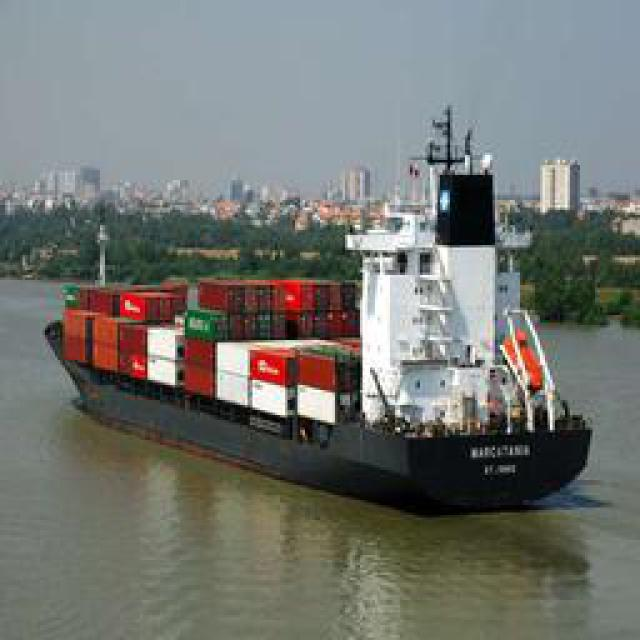Ship: (57, 180, 595, 513)
